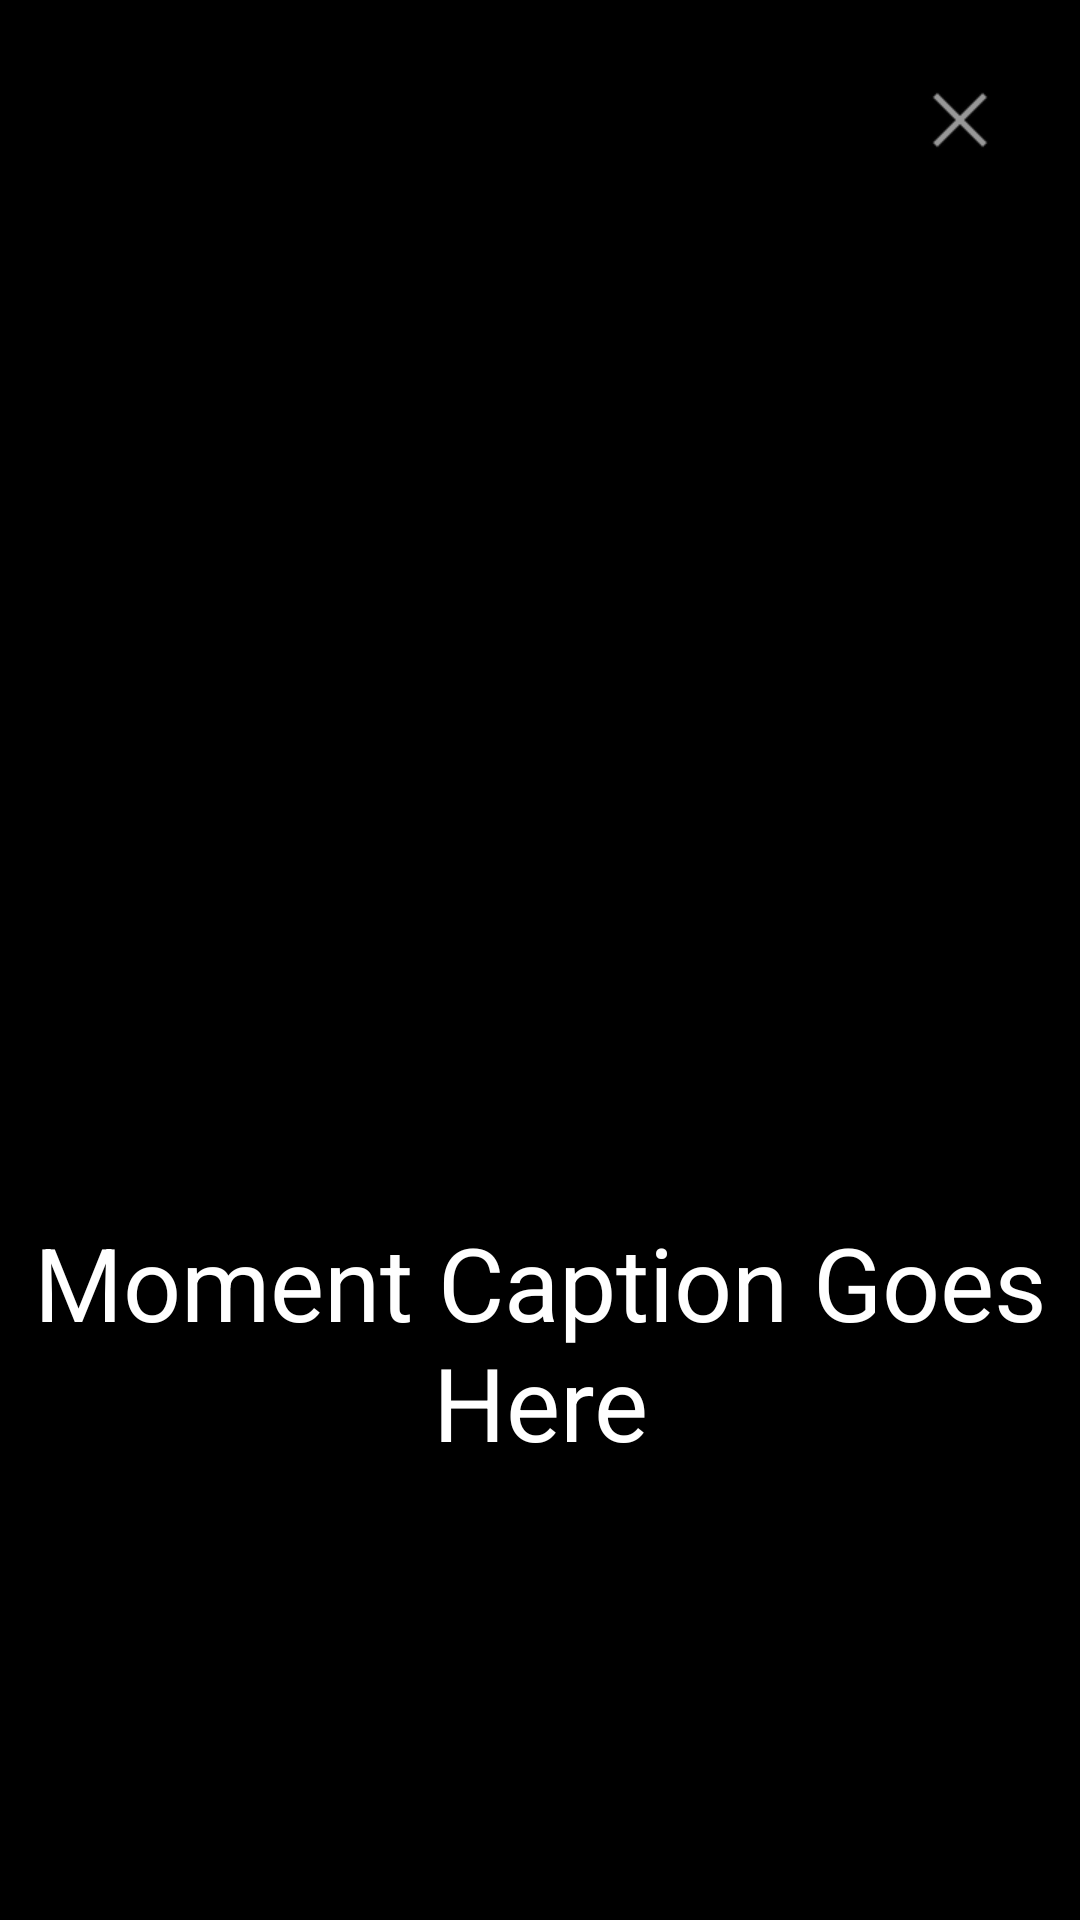

Where to tap for icons on this 1080x1920 app screen, as point (x, y):
Close: point (960, 120)
